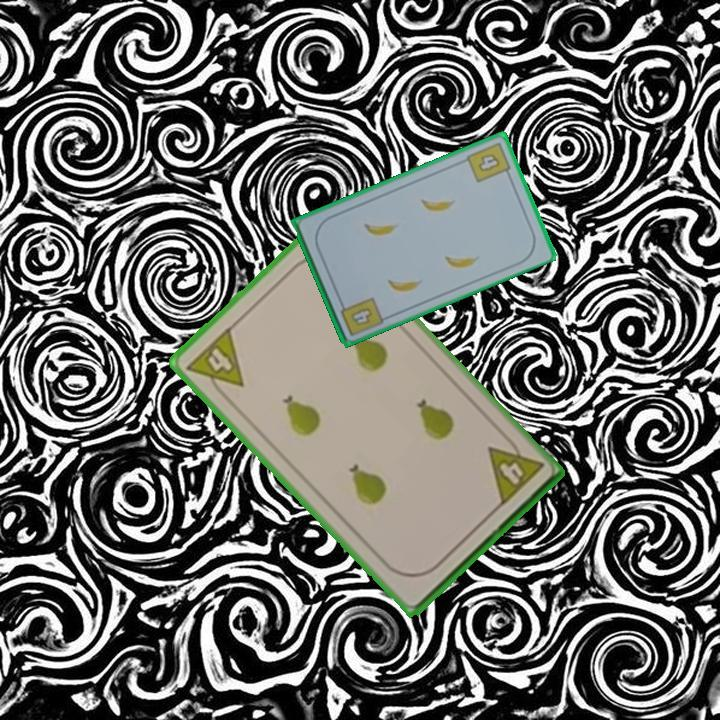4b: (463, 138, 514, 185), (336, 293, 385, 339)
4p: (183, 323, 247, 404), (483, 431, 547, 509)
